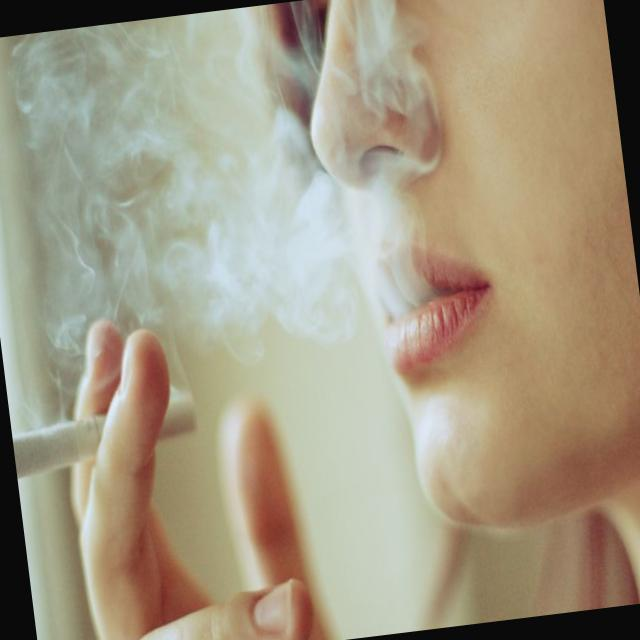cigarette: (7, 372, 220, 485)
